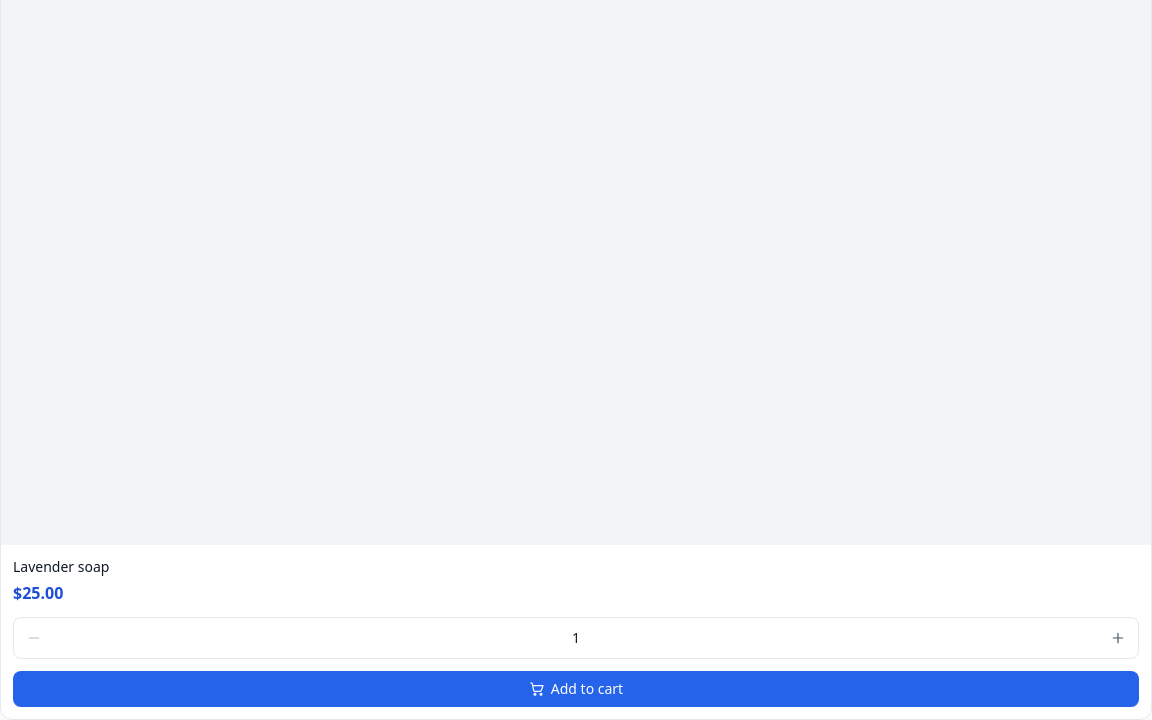
Test: a store that tracks inventory › caps the stepper at the available stock
(page scrolled)
Click the button named "increase quantity". click: (1118, 638)
box: left=1102, top=622, right=1134, bottom=654
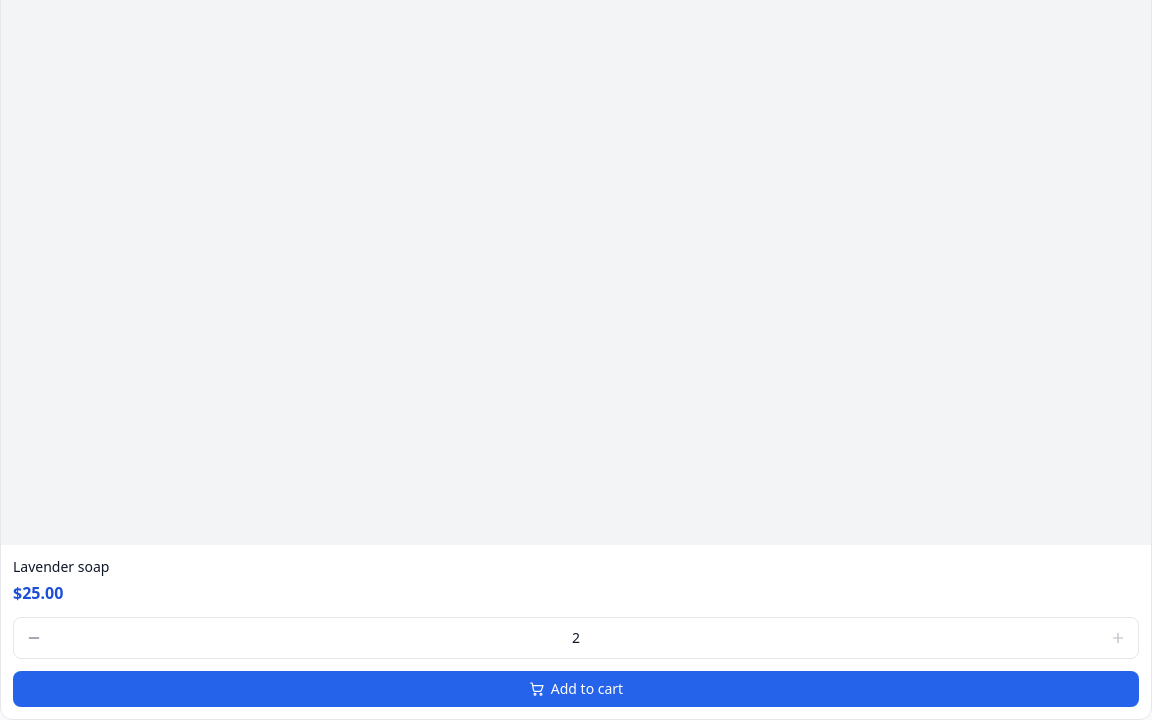
Expected: the text "2" is shown, left=572, top=628, right=580, bottom=647
Expected: the button named "increase quantity" is disabled, left=1102, top=622, right=1134, bottom=654
